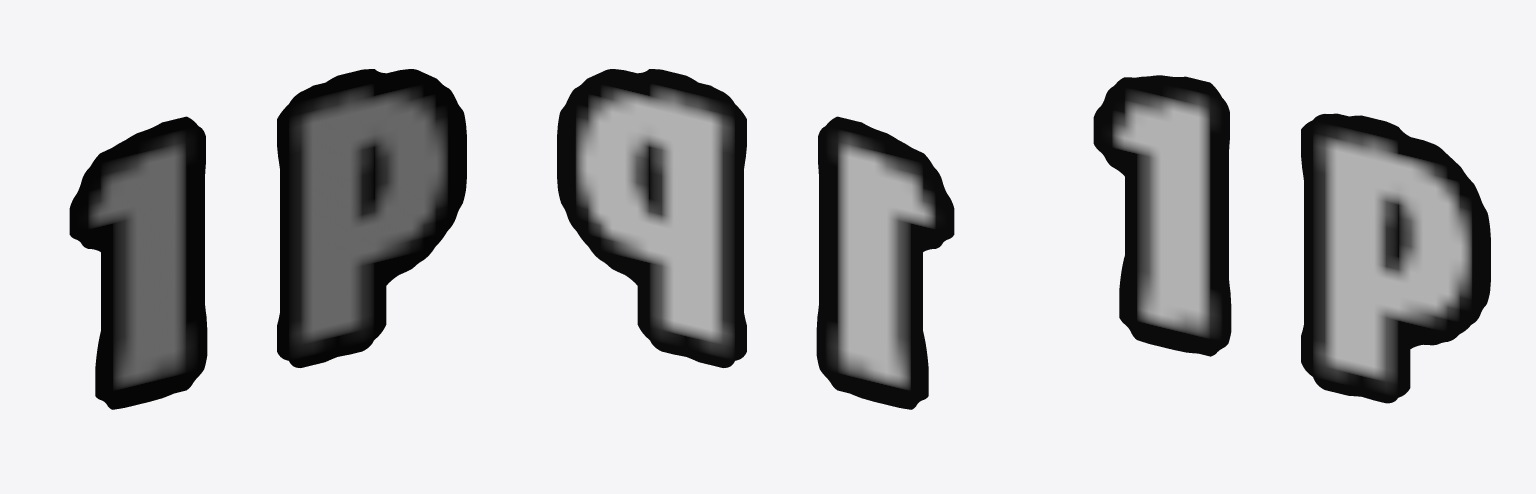
3 renders of one model, left to right at view 1: azimuth 30°, elevation 25°; view 2: azimuth 150°, elevation 25°; view 3: azimuth 330°, elevation 25°, orthographic.
Visible parts, largest first — view 1: Joint_0_Object_0; view 2: Joint_0_Object_0; view 3: Joint_0_Object_0.
Boxes of the visible parts, bbox=[...] form: Joint_0_Object_0: bbox=[69, 69, 466, 409]; Joint_0_Object_0: bbox=[557, 69, 954, 409]; Joint_0_Object_0: bbox=[1093, 75, 1490, 403].
Bounding box in the file's own units: 26.39 × 18.14 × 0.
1 material, 1 textured.
